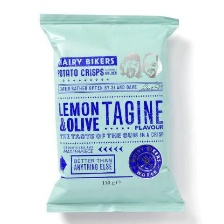snack: (33, 6, 191, 219)
